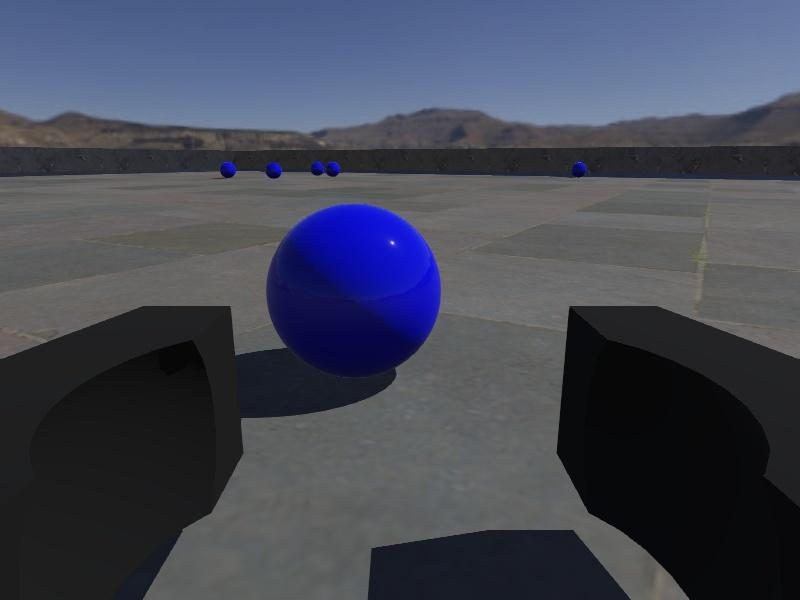blue ball: (265, 202, 442, 379), (569, 160, 588, 178), (218, 160, 237, 178), (265, 161, 283, 179), (309, 159, 326, 176), (325, 161, 341, 177)
